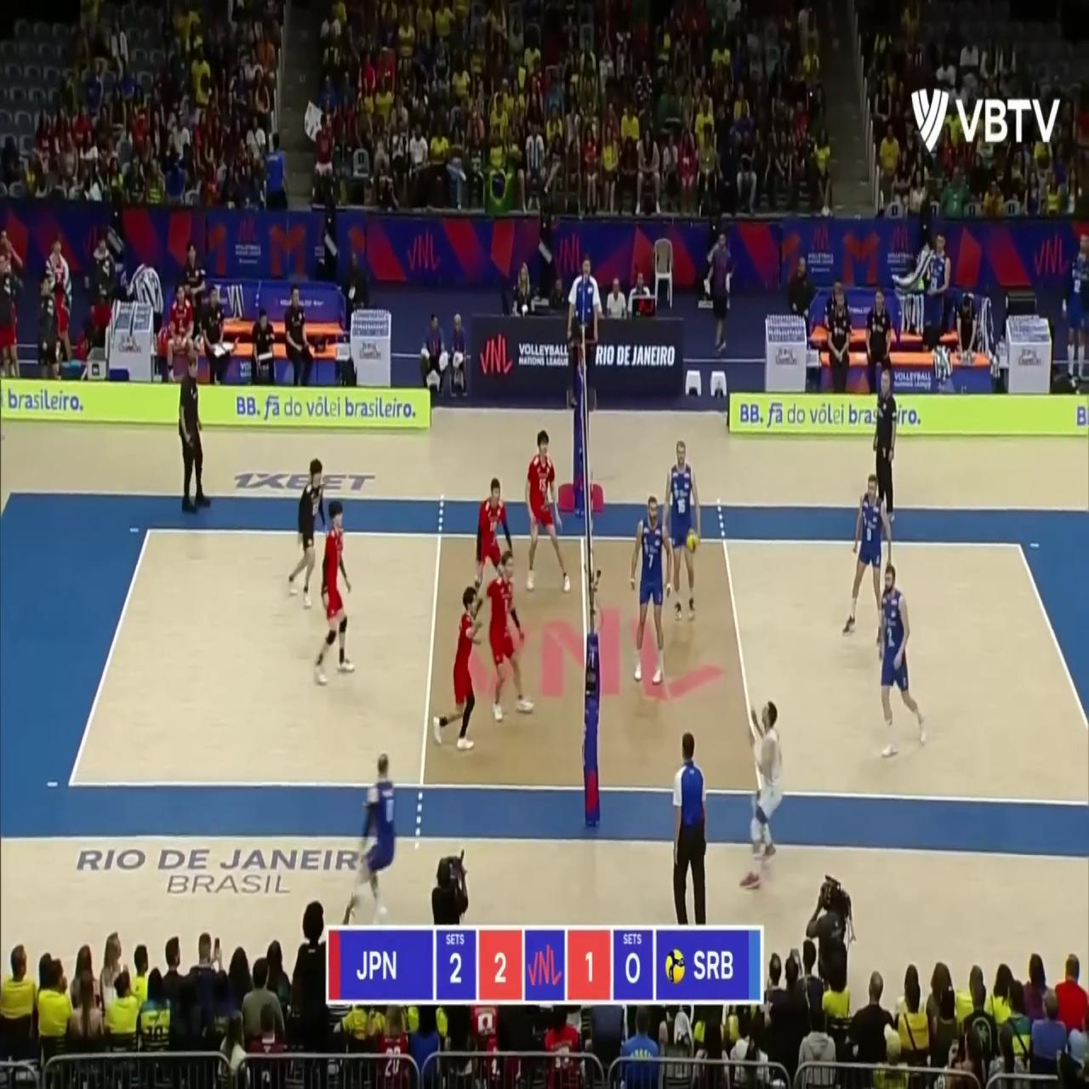ball: (687, 529, 698, 553)
